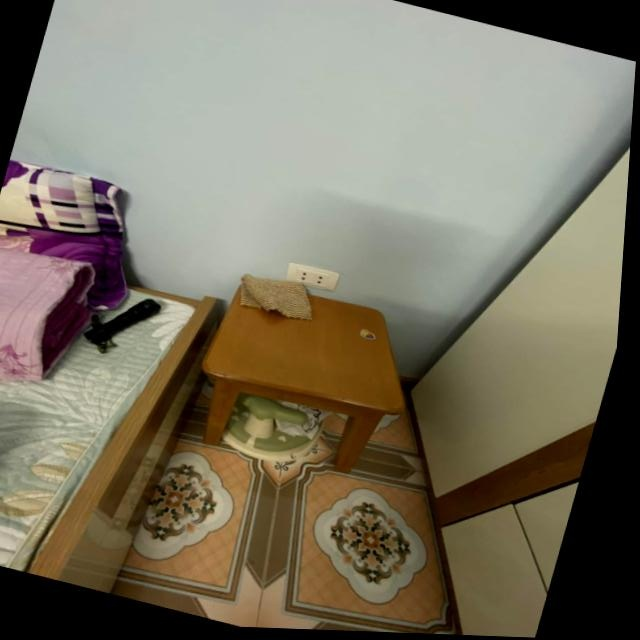outlet: (285, 260, 342, 292)
